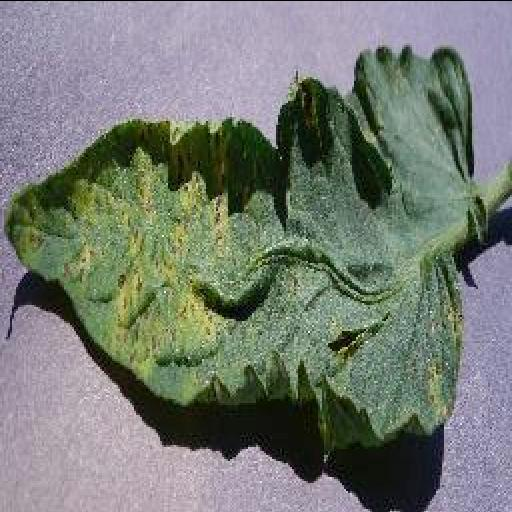disease_tomato: (4, 38, 474, 440)
